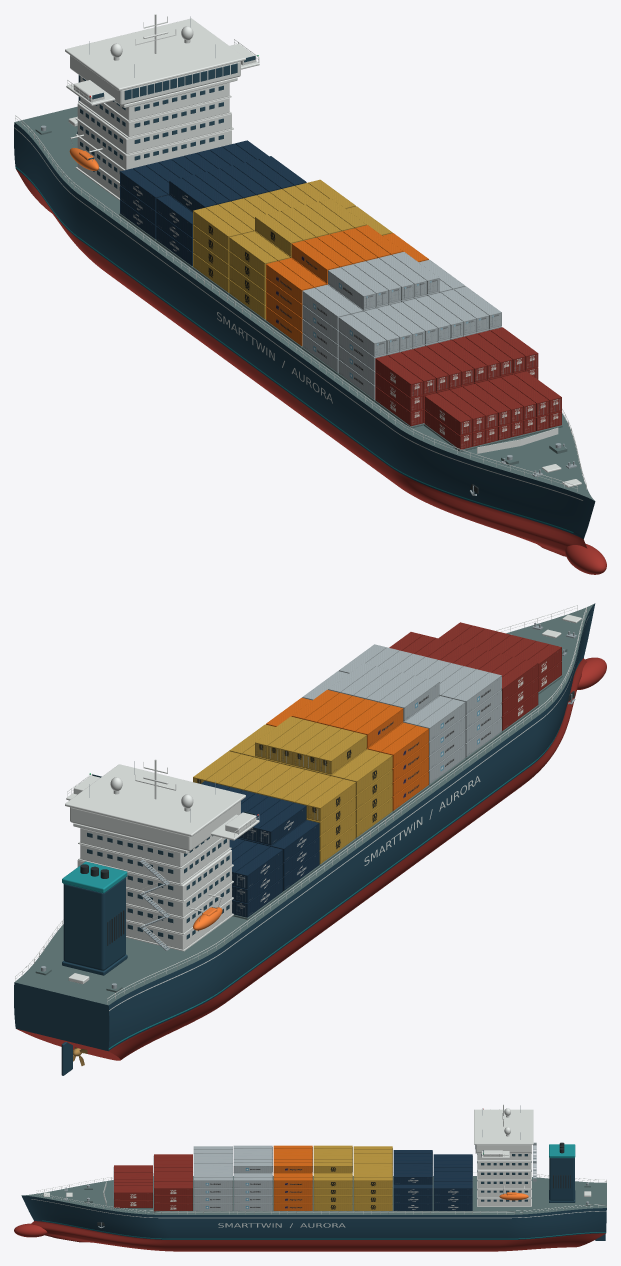
File: container-ship.glb
3 renders of one model, top to bottom at view 1: azimuth 30°, elevation 25°; view 2: azimuth 150°, elevation 25°; view 3: azimuth 270°, elevation 25°, orthographic. The views are drawn at different scales.
Parts seen in each view (by area): view 1: hull, bridge, main_deck, accommodation, cargo_bay_03, cargo_bay_02, cargo_bay_04, cargo_bay_01, cargo_bay_06, cargo_bay_05, cargo_bay_08, cargo_bay_07 (+6 smaller); view 2: hull, main_deck, accommodation, bridge, cargo_bay_06, cargo_bay_07, cargo_bay_04, cargo_bay_05, funnel, cargo_bay_03, cargo_bay_08, cargo_bay_02 (+8 smaller); view 3: hull, main_deck, bridge, accommodation, cargo_bay_04, cargo_bay_05, cargo_bay_06, cargo_bay_03, cargo_bay_07, cargo_bay_08, cargo_bay_09, cargo_bay_02 (+8 smaller).
Part boxes in pixels (x1,y1,x2,y2): hull: (14, 122, 595, 556); bridge: (65, 18, 259, 107); main_deck: (14, 106, 594, 500); accommodation: (75, 76, 233, 200); cargo_bay_03: (338, 286, 501, 399); cargo_bay_02: (375, 327, 538, 426); cargo_bay_04: (302, 252, 465, 372); cargo_bay_01: (424, 371, 561, 449); cargo_bay_06: (229, 198, 392, 319); cargo_bay_05: (266, 225, 428, 346); cargo_bay_08: (156, 156, 306, 265); cargo_bay_07: (193, 179, 355, 292); hull: (14, 603, 595, 1060); main_deck: (14, 603, 594, 1005); accommodation: (77, 828, 233, 951); bridge: (65, 764, 259, 853); cargo_bay_06: (229, 716, 392, 837); cargo_bay_07: (193, 751, 355, 864); cargo_bay_04: (302, 663, 465, 784); cargo_bay_05: (266, 689, 428, 810); funnel: (62, 861, 127, 975); cargo_bay_03: (338, 644, 501, 757); cargo_bay_08: (201, 781, 319, 890); cargo_bay_02: (389, 632, 538, 730); hull: (21, 1195, 606, 1251); main_deck: (22, 1176, 606, 1214); bridge: (474, 1108, 533, 1158); accommodation: (477, 1153, 531, 1206); cargo_bay_04: (233, 1145, 272, 1210); cargo_bay_05: (273, 1145, 312, 1210); cargo_bay_06: (313, 1145, 352, 1210); cargo_bay_03: (193, 1146, 232, 1210); cargo_bay_07: (353, 1146, 392, 1210); cargo_bay_08: (393, 1150, 432, 1210); cargo_bay_09: (433, 1154, 472, 1210); cargo_bay_02: (153, 1154, 192, 1211).
Bounding box in the file's own units: 33.44 × 47.31 × 185.
23 materials, 6 textured.
